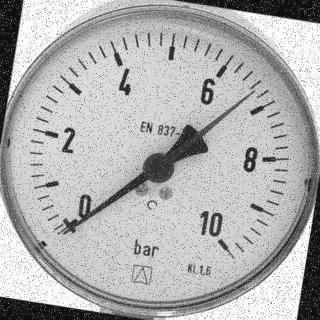gauge: (0, 0, 320, 320), (203, 225, 244, 263), (60, 200, 92, 240), (142, 152, 176, 184), (58, 224, 75, 240), (247, 86, 261, 98)
